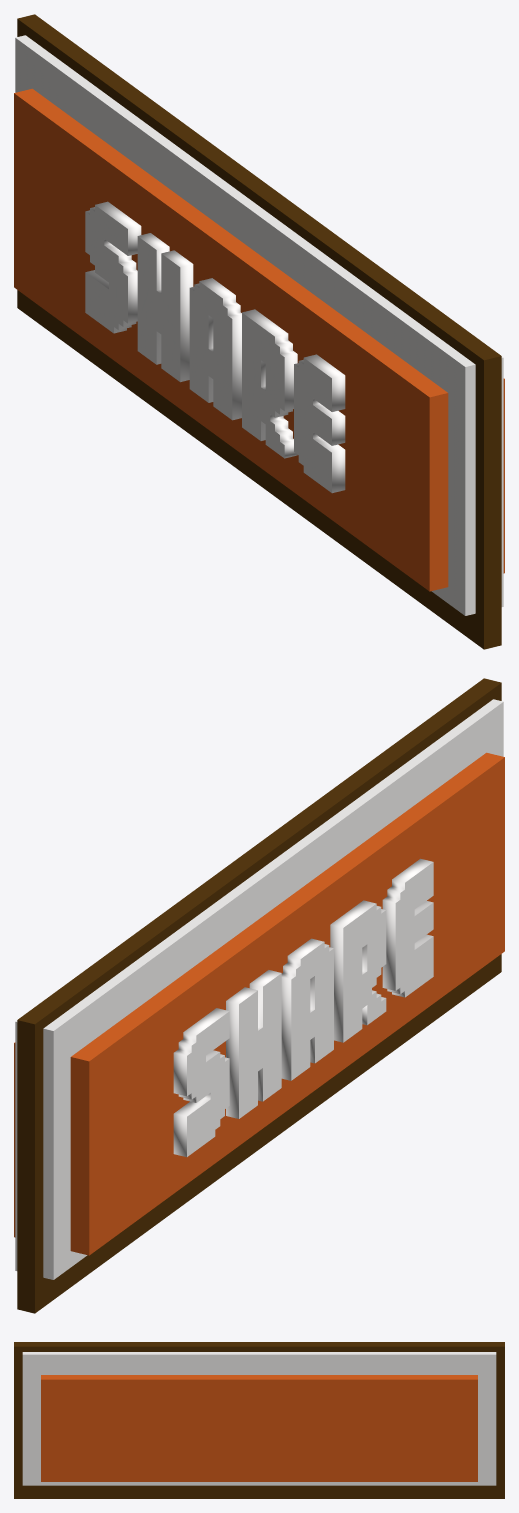
File: share_finalbutton.fbx
3 renders of one model, top to bottom at view 1: azimuth 30°, elevation 25°; view 2: azimuth 150°, elevation 25°; view 3: azimuth 270°, elevation 25°, orthographic. The views are drawn at different scales.
Visible parts, largest first — view 1: share_button; view 2: share_button; view 3: share_button.
Boxes of the visible parts, x1,y1,x2,y2 form: share_button: [14, 14, 504, 649]; share_button: [14, 678, 504, 1313]; share_button: [14, 1342, 504, 1498].
Bounding box in the file's own units: 54.77 × 171 × 501.
